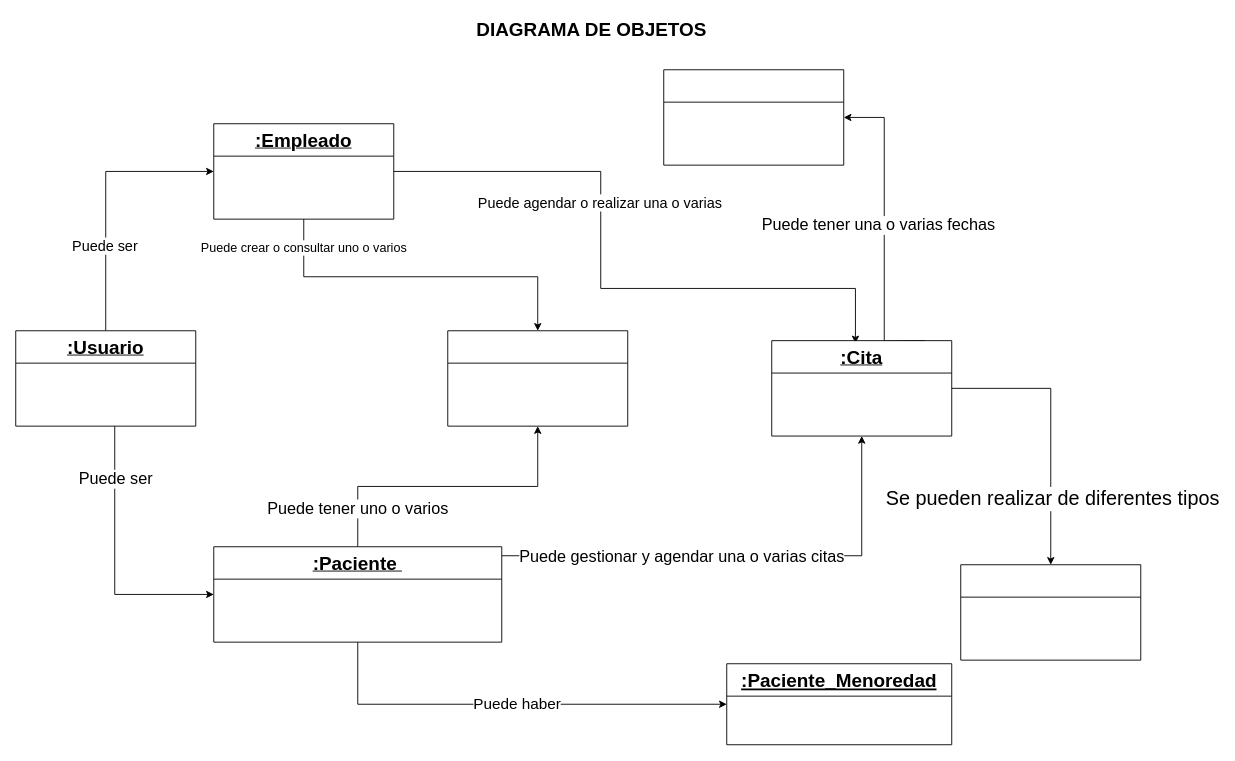
Some shapes in this 1235 by 761 pixel diagram are drawn without their labels. The box of each missing label's shape, as (x1, y1, x2, y2) in pixels:
:Calendario: (663, 69, 844, 165)
:HistorialClinico: (447, 330, 628, 426)
:Tipo_Cita: (960, 564, 1141, 660)
